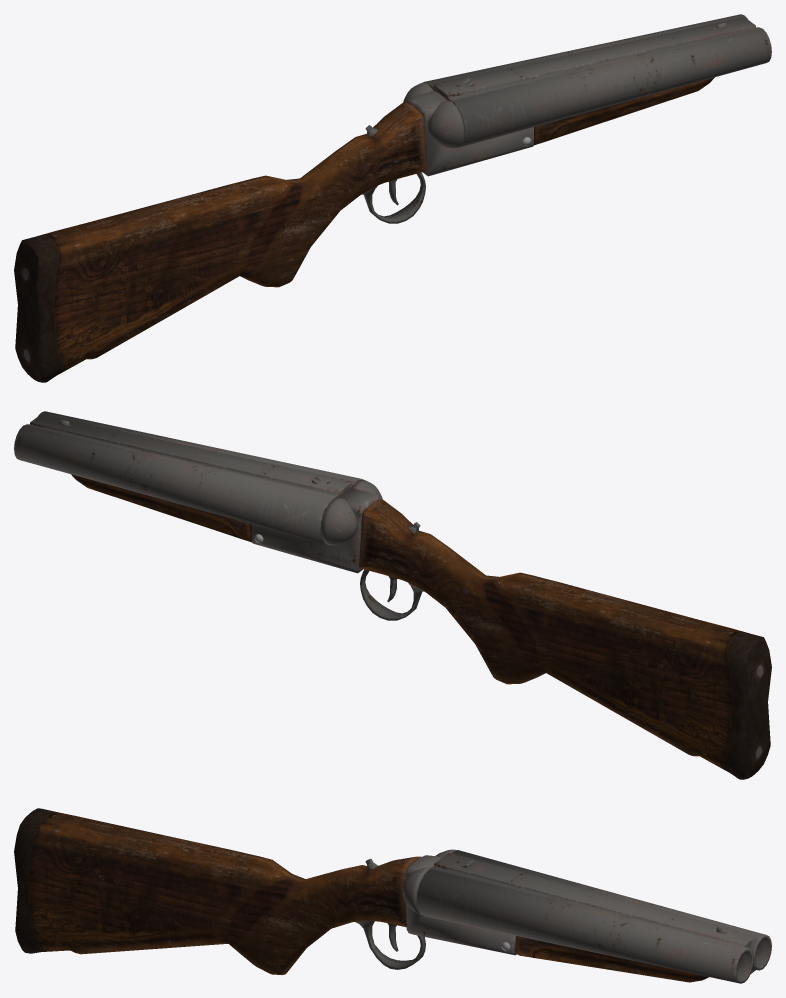
File: shotgun.glb
3 views of the same model, one above another, from view 1: azimuth 30°, elevation 25°; view 2: azimuth 150°, elevation 25°; view 3: azimuth 330°, elevation 25° (orthographic).
Parts seen in each view (by area): view 1: Plane, Shotgun_concept_01, Shotgun_concept_01.002; view 2: Plane, Shotgun_concept_01, Shotgun_concept_01.002; view 3: Plane, Shotgun_concept_01.
Part boxes in pixels (left/top/right/bottom): Plane: left=20, top=102, right=426, bottom=382; Shotgun_concept_01: left=362, top=14, right=771, bottom=223; Shotgun_concept_01.002: left=14, top=243, right=41, bottom=381; Plane: left=359, top=499, right=765, bottom=779; Shotgun_concept_01: left=14, top=411, right=423, bottom=620; Shotgun_concept_01.002: left=744, top=640, right=771, bottom=778; Plane: left=14, top=808, right=421, bottom=974; Shotgun_concept_01: left=355, top=849, right=771, bottom=983.
Bounding box in the file's own units: 2 × 0.5099 × 0.2335.
1 material, 1 textured.
